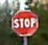stop: (9, 9, 38, 36)
